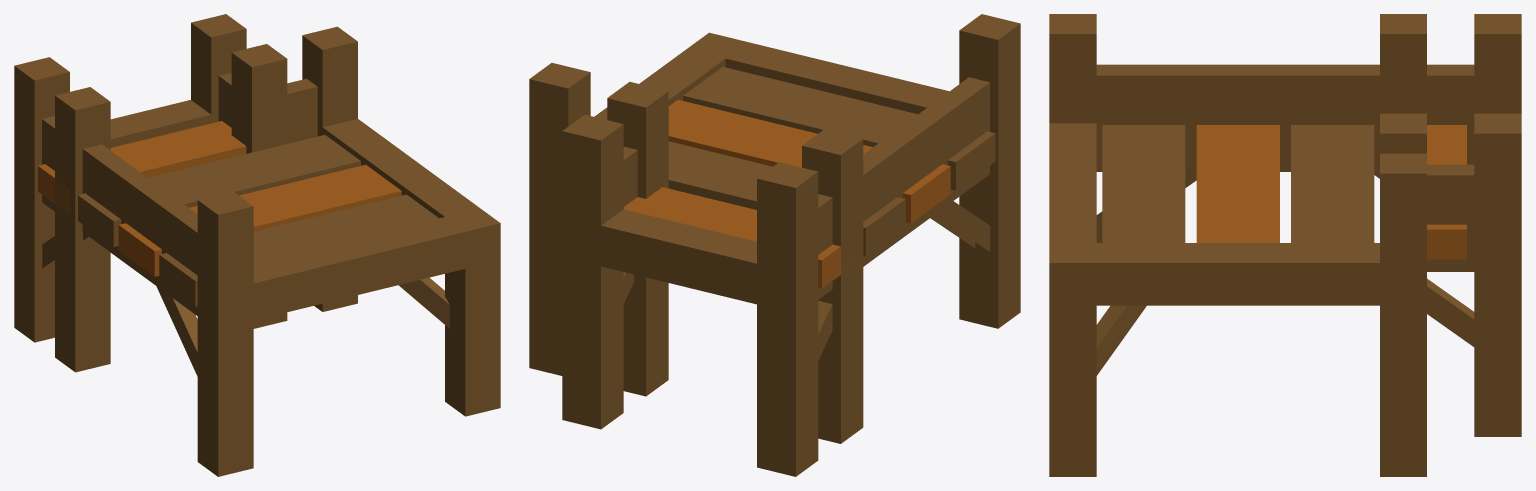
File: ThreeWayQuarterFilled.fbx
3 renders of one model, left to right at view 1: azimuth 30°, elevation 25°; view 2: azimuth 150°, elevation 25°; view 3: azimuth 270°, elevation 25°, orthographic. The views are drawn at different scales.
Parts seen in each view (by area): view 1: Bridge - Three-way Quarter Filled; view 2: Bridge - Three-way Quarter Filled; view 3: Bridge - Three-way Quarter Filled.
Part boxes in pixels (x1,y1,x2,y2): Bridge - Three-way Quarter Filled: [14, 14, 500, 476]; Bridge - Three-way Quarter Filled: [529, 14, 1020, 476]; Bridge - Three-way Quarter Filled: [1049, 14, 1521, 476].
Bounding box in the file's own units: 80 × 70.89 × 100.
